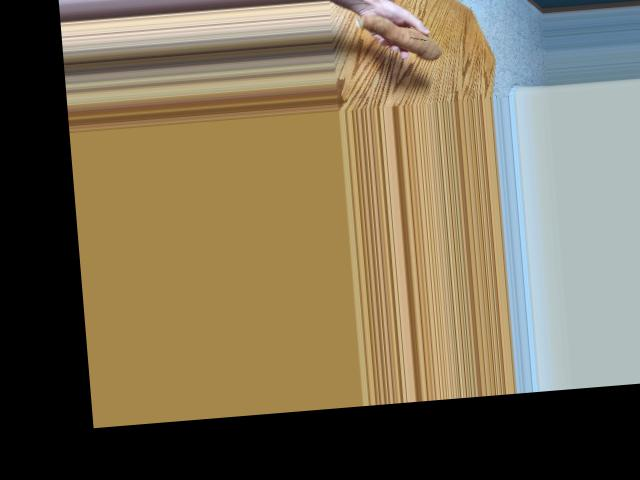sweet_potato: (353, 3, 445, 67)
